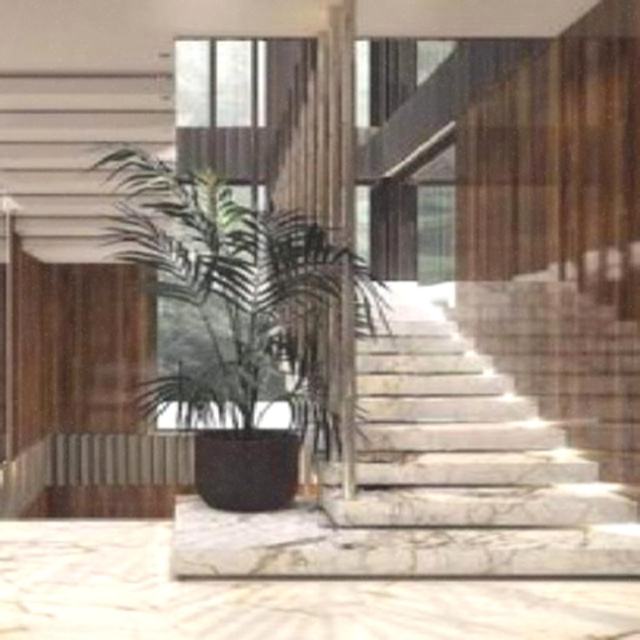stair: (263, 254, 640, 598)
